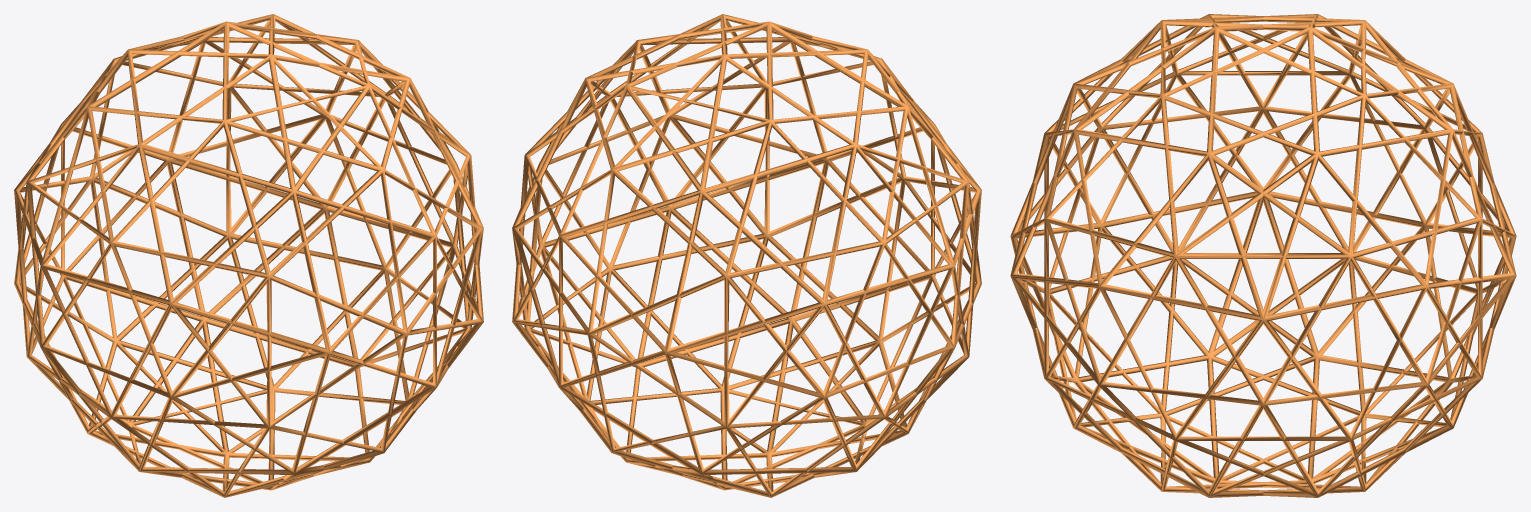
The model's file is SmallSnubIcosicosidodecahedron2.glb.
3 renders of one model, left to right at view 1: azimuth 30°, elevation 25°; view 2: azimuth 150°, elevation 25°; view 3: azimuth 270°, elevation 25°, orthographic. The views are drawn at different scales.
Visible parts, largest first — view 1: SmallSnubIcosicosidodecahedron; view 2: SmallSnubIcosicosidodecahedron; view 3: SmallSnubIcosicosidodecahedron.
Part boxes in pixels (x1,y1,x2,y2): SmallSnubIcosicosidodecahedron: [14, 14, 483, 497]; SmallSnubIcosicosidodecahedron: [512, 14, 981, 497]; SmallSnubIcosicosidodecahedron: [1010, 14, 1516, 497].
Bounding box in the file's own units: 2.9 × 2.9 × 2.9.
